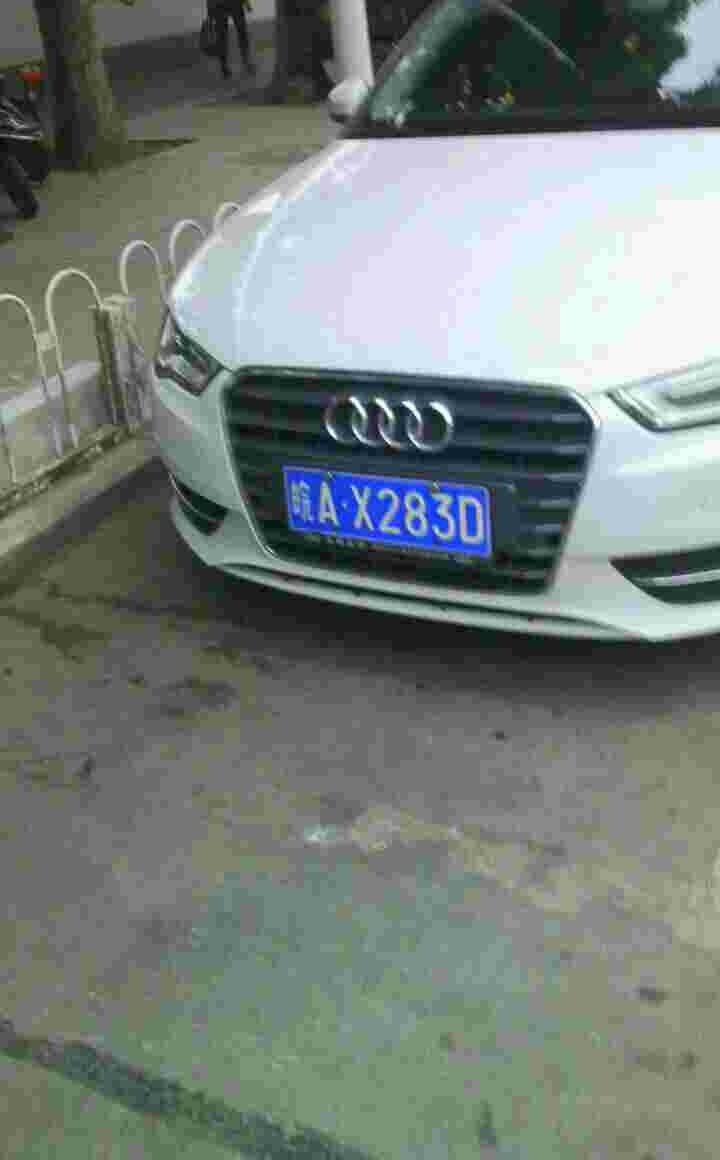plate: (280, 460, 495, 560)
